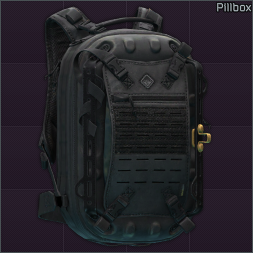Hazard4 Pillbox backpack: (0, 0, 253, 253)
